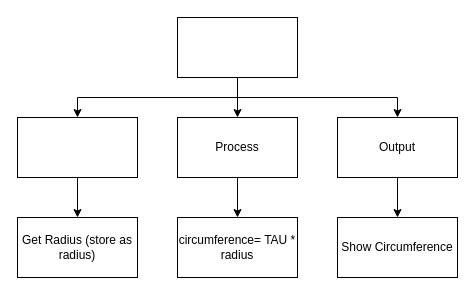
Some shapes in this 475 by 295 pixel diagram are drawn without their labels. The box of each missing label's shape, as (x1, y1, x2, y2) in pixels:
Circumference of a Circle: (176, 16, 298, 78)
Input: (16, 116, 138, 178)
